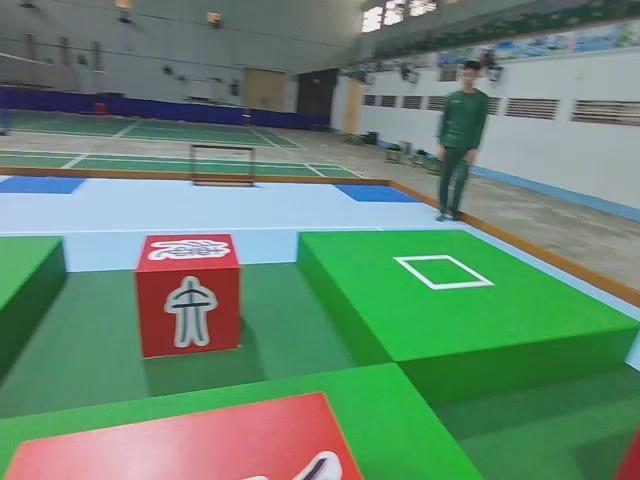R2 Fake: (135, 234, 241, 363)
